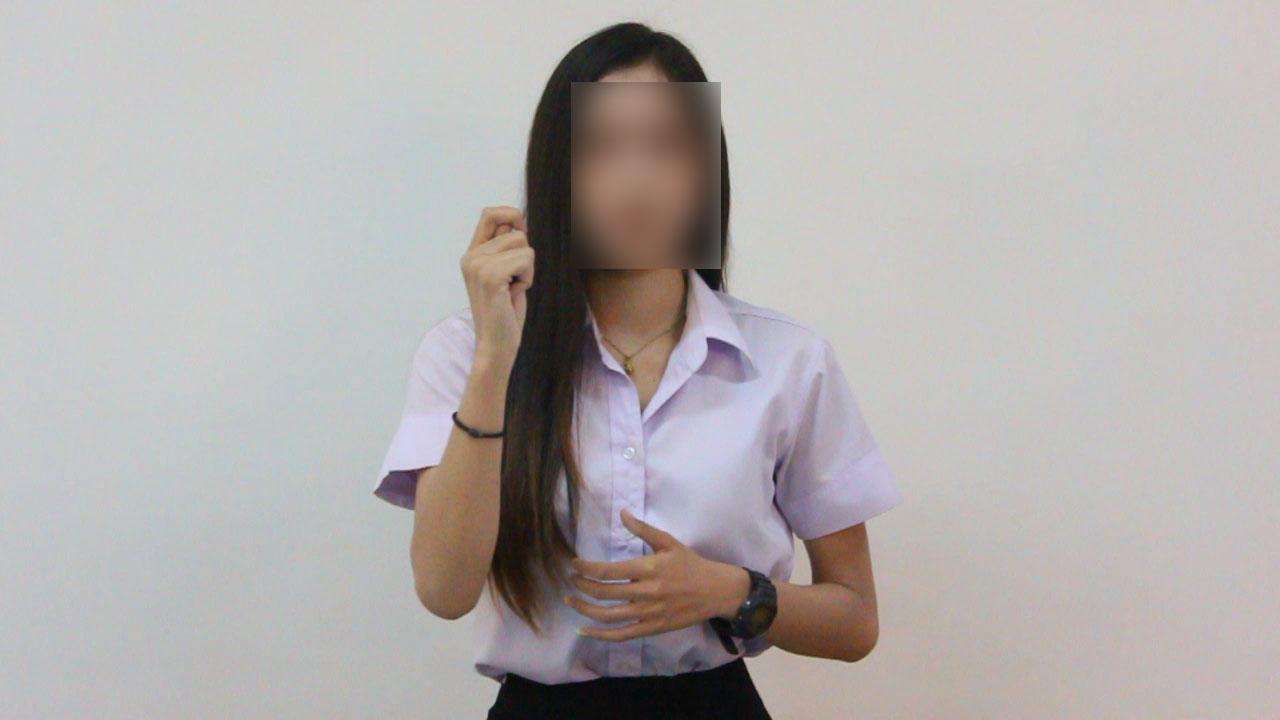or: (456, 196, 540, 363)
